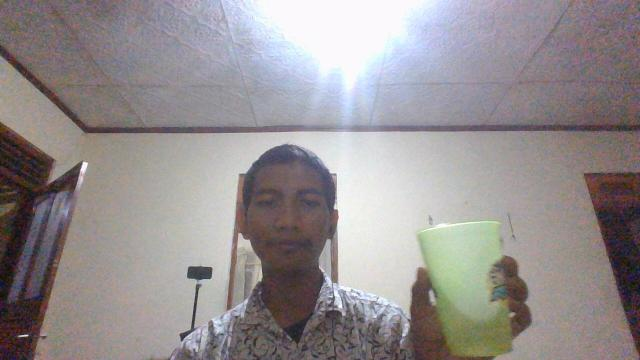botol-hijau: (414, 212, 516, 360)
